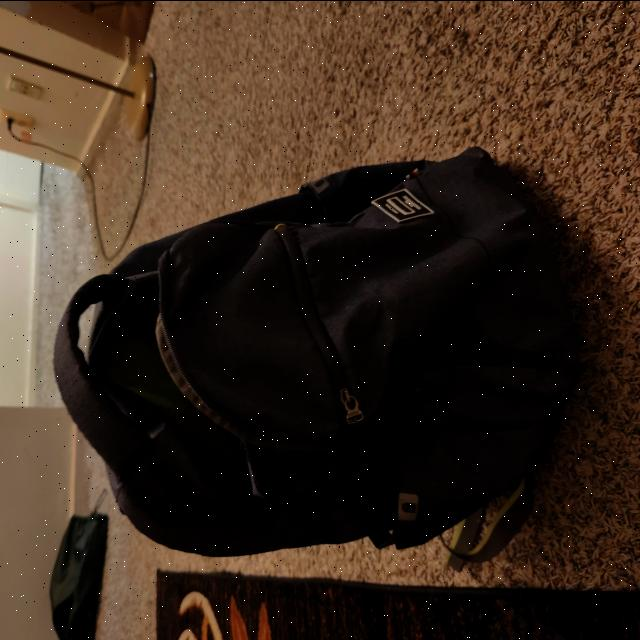bag: (64, 164, 532, 536)
